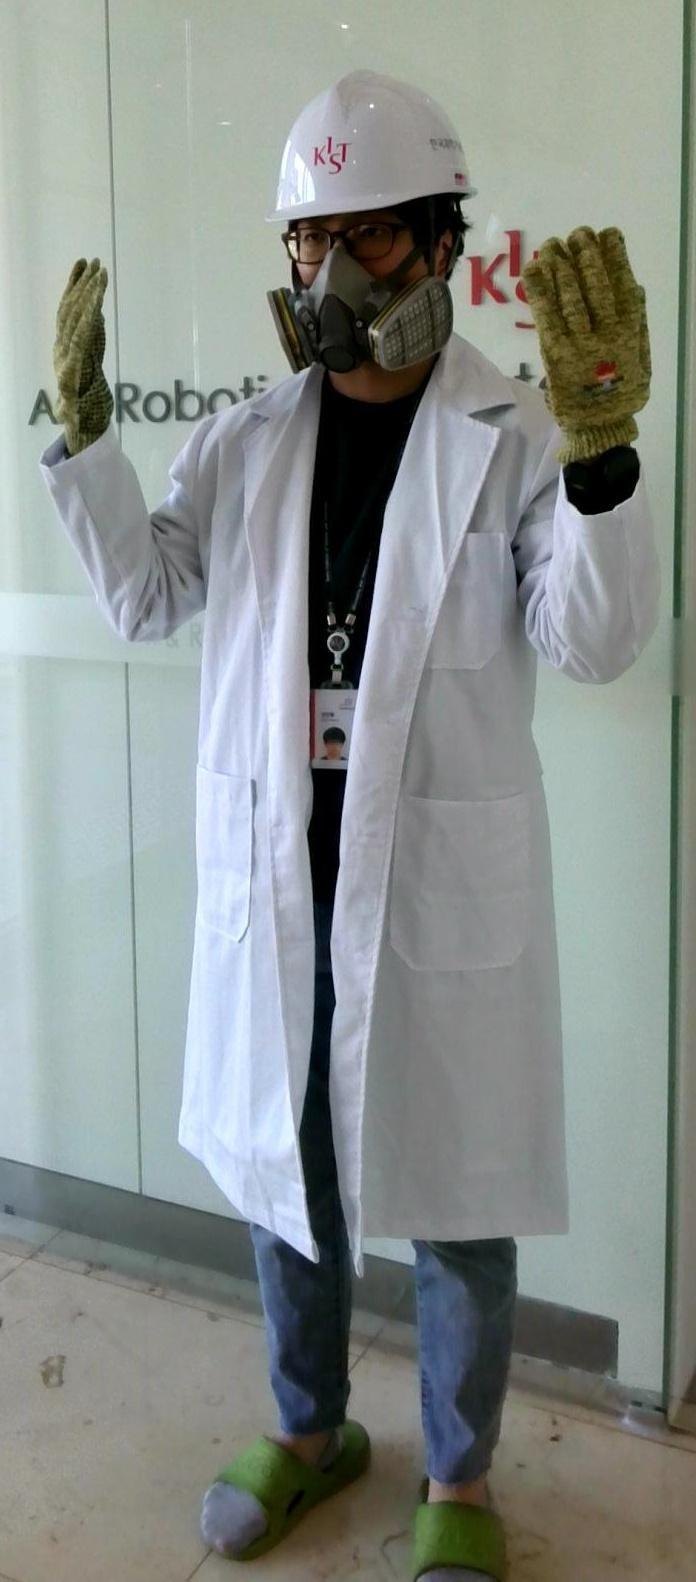lab_coat: (172, 384, 544, 1199)
